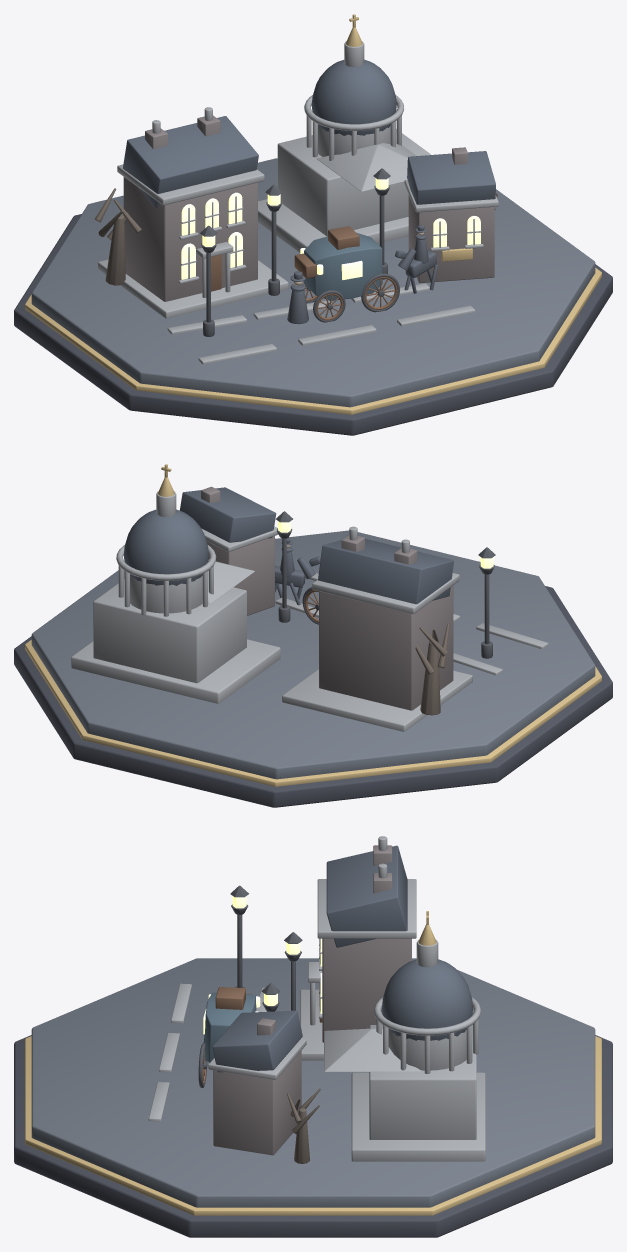
The model's file is london_act1.glb.
The picture shows the model from 3 angles, top to bottom: view 1: azimuth 30°, elevation 25°; view 2: azimuth 150°, elevation 25°; view 3: azimuth 270°, elevation 25°; orthographic projection. The views are drawn at different scales.
Visible parts, largest first — view 1: London_PlinthDeck, London_PlinthLower, Lon_SohoHouse_Main, Lon_CathedralBase, Lon_SohoRoof, London_PlinthBrass, Lon_StPaulsDome, Lon_TellsonsBank, Lon_BankRoof, Lon_CoachCabin, London_Sidewalk_NW, Lon_OldBaileyPediment (+11 smaller); view 2: London_PlinthDeck, London_PlinthLower, Lon_SohoHouse_Main, Lon_CathedralBase, Lon_SohoRoof, London_PlinthBrass, London_Sidewalk_NE, Lon_StPaulsDome, London_Sidewalk_NW, Lon_BankRoof, Lon_TellsonsBank, Lon_DomeDrum (+6 smaller); view 3: London_PlinthDeck, London_PlinthLower, Lon_CathedralBase, London_PlinthBrass, Lon_TellsonsBank, Lon_SohoHouse_Main, Lon_SohoRoof, Lon_StPaulsDome, London_Sidewalk_NE, Lon_BankRoof, Lon_OldBaileyPediment, Lon_SohoHouse_Cornice (+8 smaller).
Boxes of the visible parts, left/top/right/bottom form: London_PlinthDeck: left=31, top=158, right=595, bottom=407; London_PlinthLower: left=14, top=214, right=612, bottom=435; Lon_SohoHouse_Main: left=123, top=177, right=257, bottom=301; Lon_CathedralBase: left=277, top=129, right=430, bottom=236; Lon_SohoRoof: left=123, top=116, right=258, bottom=207; London_PlinthBrass: left=25, top=267, right=601, bottom=414; Lon_StPaulsDome: left=311, top=59, right=396, bottom=135; Lon_TellsonsBank: left=408, top=195, right=494, bottom=283; Lon_BankRoof: left=407, top=151, right=495, bottom=204; Lon_CoachCabin: left=303, top=232, right=382, bottom=300; London_Sidewalk_NW: left=97, top=259, right=288, bottom=318; Lon_OldBaileyPediment: left=317, top=141, right=416, bottom=191; London_PlinthDeck: left=31, top=530, right=595, bottom=779; London_PlinthLower: left=14, top=586, right=612, bottom=807; Lon_SohoHouse_Main: left=319, top=585, right=453, bottom=710; Lon_CathedralBase: left=93, top=579, right=246, bottom=683; Lon_SohoRoof: left=318, top=538, right=453, bottom=604; London_PlinthBrass: left=25, top=640, right=601, bottom=786; London_Sidewalk_NE: left=71, top=639, right=280, bottom=703; Lon_StPaulsDome: left=123, top=509, right=208, bottom=585; London_Sidewalk_NW: left=282, top=669, right=472, bottom=731; Lon_BankRoof: left=179, top=487, right=276, bottom=542; Lon_TellsonsBank: left=206, top=536, right=274, bottom=615; Lon_DomeDrum: left=130, top=576, right=202, bottom=613; London_PlinthDeck: left=31, top=958, right=595, bottom=1207; London_PlinthLower: left=14, top=1035, right=612, bottom=1237; Lon_CathedralBase: left=369, top=1025, right=476, bottom=1139; London_PlinthBrass: left=25, top=1036, right=601, bottom=1215; Lon_TellsonsBank: left=213, top=1050, right=301, bottom=1155; Lon_SohoHouse_Main: left=322, top=938, right=411, bottom=1042; Lon_SohoRoof: left=326, top=845, right=407, bottom=947; Lon_StPaulsDome: left=382, top=959, right=472, bottom=1040; London_Sidewalk_NE: left=351, top=1072, right=485, bottom=1161; Lon_BankRoof: left=212, top=1010, right=302, bottom=1072; Lon_OldBaileyPediment: left=324, top=1028, right=420, bottom=1071; Lon_SohoHouse_Cornice: left=317, top=879, right=416, bottom=938.
Bounding box in the file's own units: 13.4 × 6.16 × 13.4.
